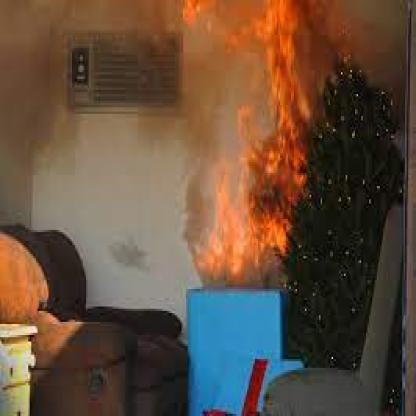fire: (194, 0, 351, 276)
smoke: (1, 0, 253, 256), (340, 7, 410, 114)
